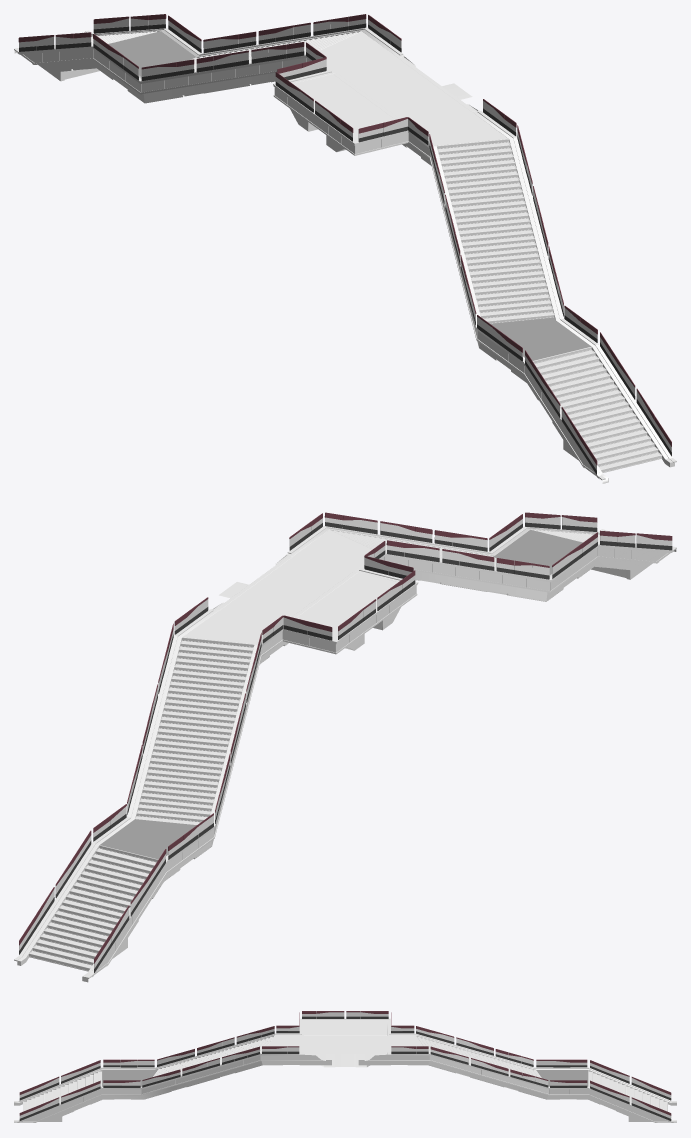
3 views of the same model, one above another, from view 1: azimuth 30°, elevation 25°; view 2: azimuth 150°, elevation 25°; view 3: azimuth 270°, elevation 25° (orthographic). The views are drawn at different scales.
Visible parts, largest first — view 1: SM_H_Building_FutureTech_Bridge_01P; view 2: SM_H_Building_FutureTech_Bridge_01P; view 3: SM_H_Building_FutureTech_Bridge_01P.
Boxes of the visible parts, x1=… form: SM_H_Building_FutureTech_Bridge_01P: x1=14, y1=14, x2=676, y2=483; SM_H_Building_FutureTech_Bridge_01P: x1=14, y1=512, x2=676, y2=982; SM_H_Building_FutureTech_Bridge_01P: x1=14, y1=1011, x2=676, y2=1122.
Bounding box in the file's own units: 2200 × 336 × 345.
